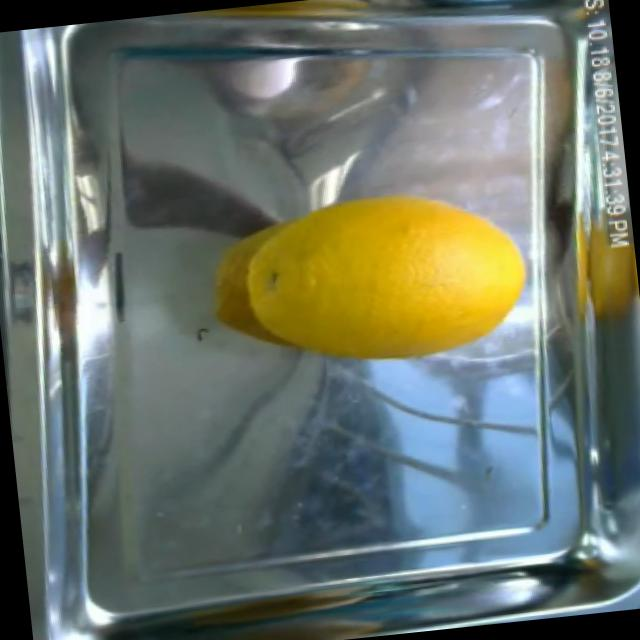Fruit: (327, 173, 546, 370)
